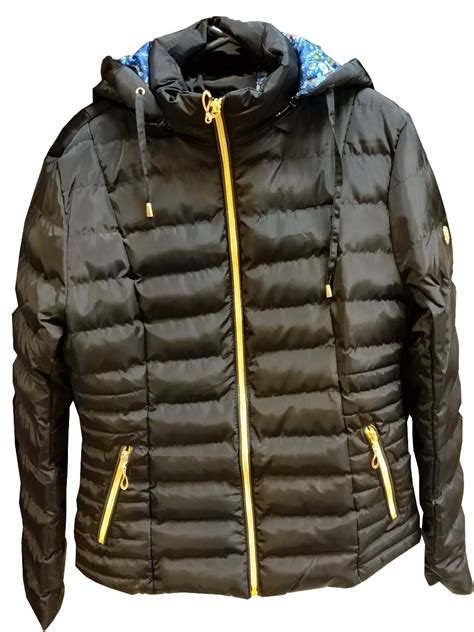nylon: (10, 17, 474, 632)
